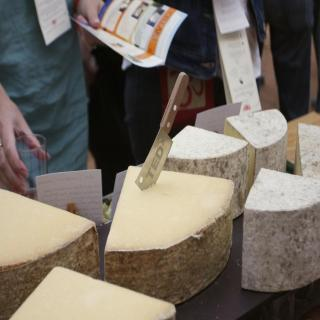Cheese: (104, 164, 237, 303), (0, 186, 99, 320), (242, 165, 320, 294), (8, 266, 178, 320), (164, 124, 249, 219), (227, 105, 290, 192), (294, 122, 320, 175)
